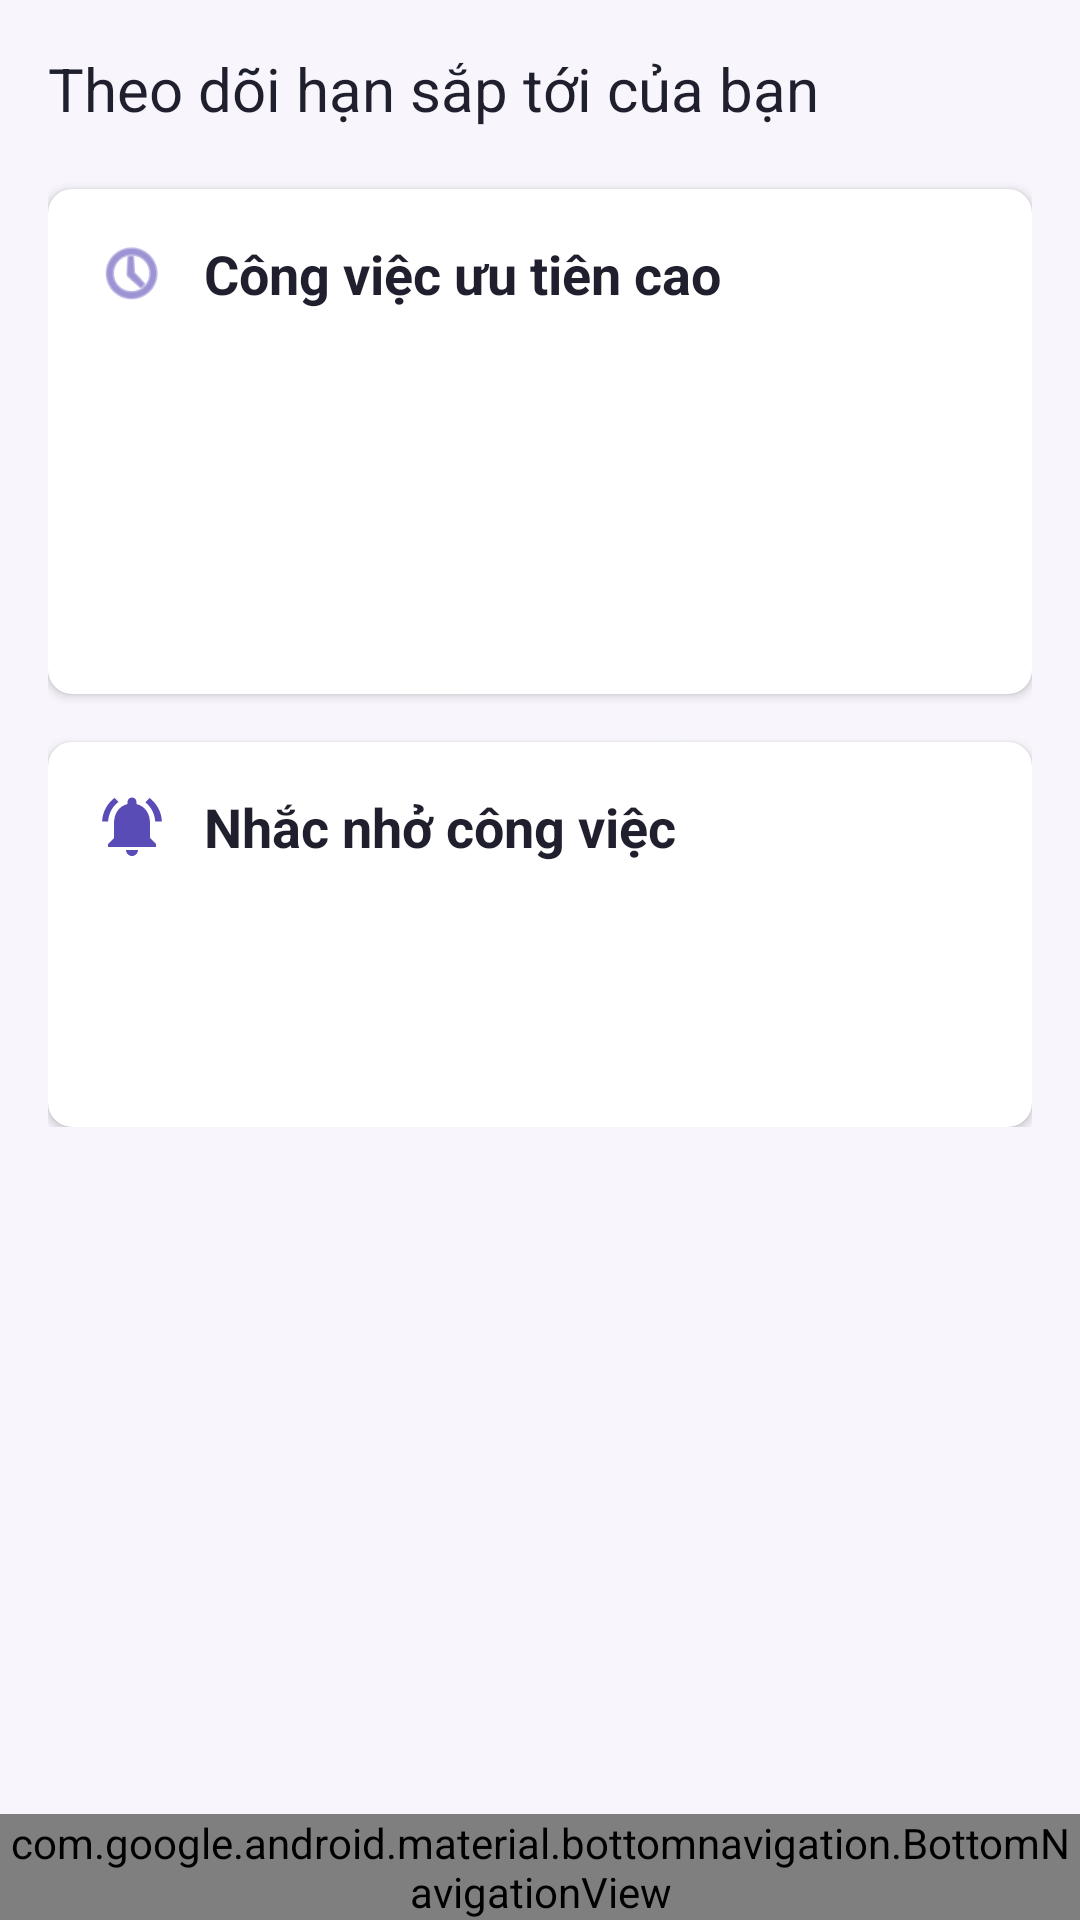

Named icons in this screenshot (1080px x 1920px) and their bounding boxes, region(x1, y1, x2, y2):
bell ringing: region(102, 797, 162, 856)
recent history: region(106, 247, 158, 299)
